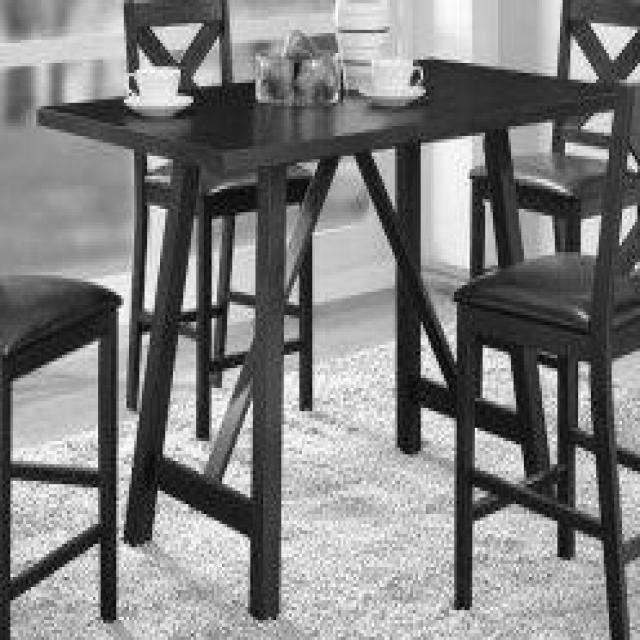chair: (452, 76, 638, 637), (121, 0, 325, 434), (467, 0, 638, 375)
table: (36, 51, 580, 619)
